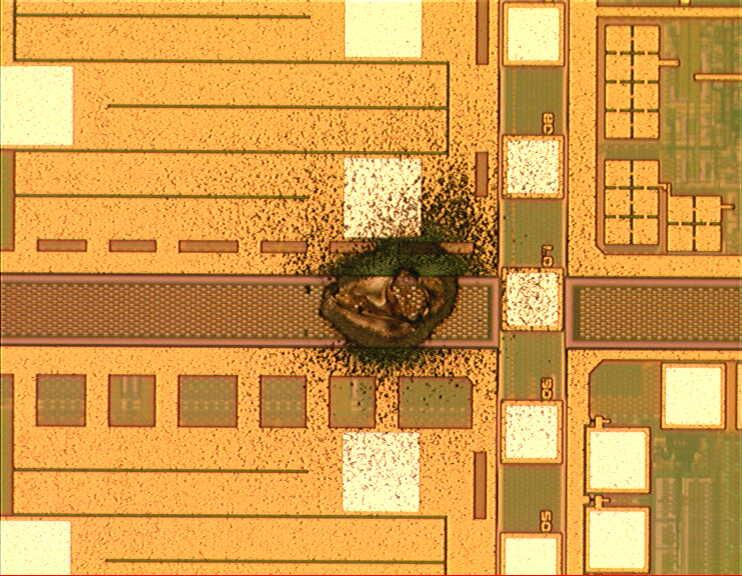PO CONTAMINATION: (163, 74, 652, 500)
